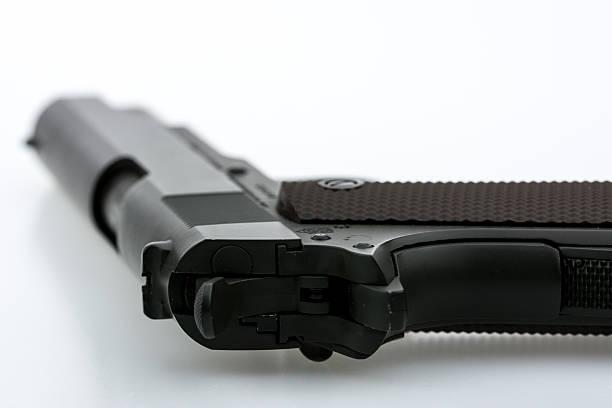weapon: (22, 78, 612, 364)
